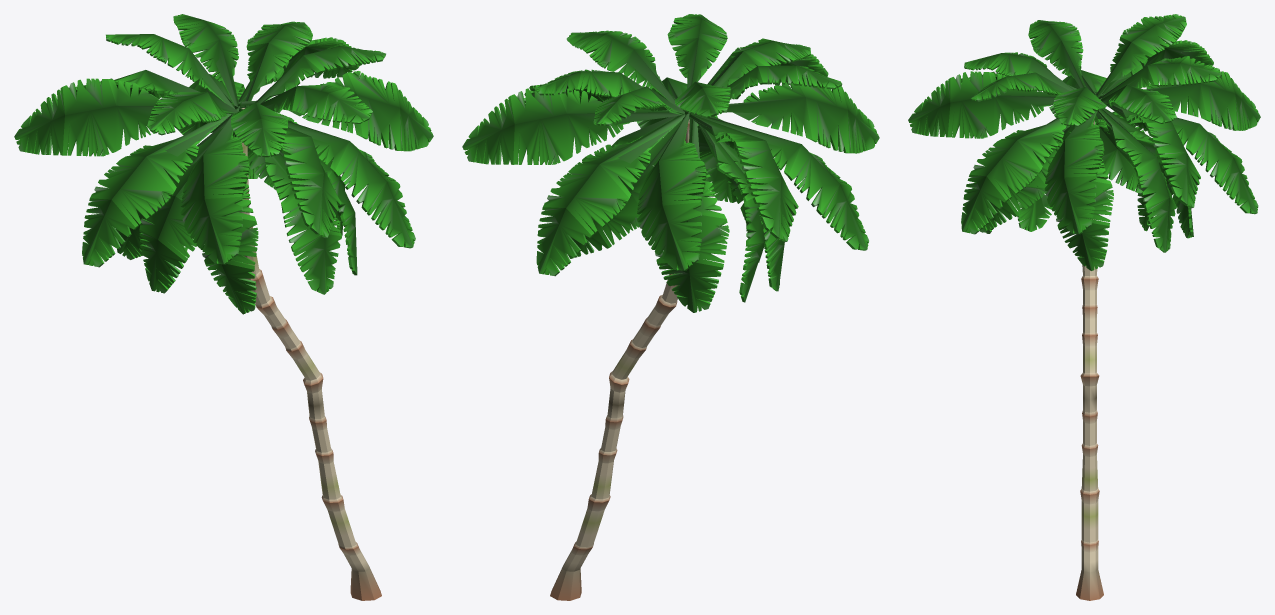
Rendered from long_palm.fbx.
The picture shows the model from 3 angles, left to right: view 1: azimuth 30°, elevation 25°; view 2: azimuth 150°, elevation 25°; view 3: azimuth 270°, elevation 25°; orthographic projection. The views are drawn at different scales.
Visible parts, largest first — view 1: long_palm; view 2: long_palm; view 3: long_palm.
Part boxes in pixels (x1,y1,x2,y2): long_palm: [14, 14, 433, 600]; long_palm: [462, 14, 879, 600]; long_palm: [908, 14, 1260, 600].
Size of the model in its own units: 8.78 by 8.81 by 13.69.
